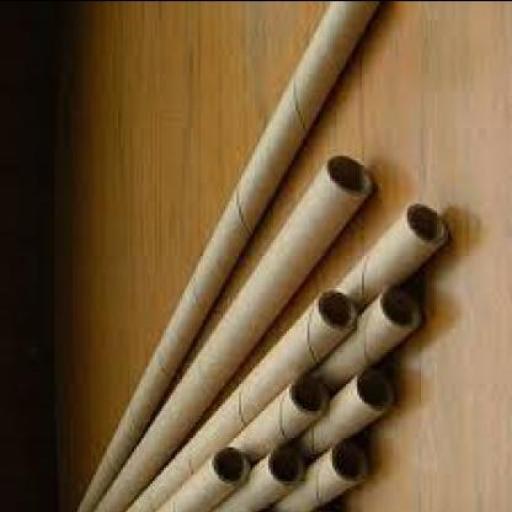cardboard: (75, 1, 377, 510), (88, 150, 371, 510), (120, 286, 354, 510), (335, 201, 448, 309), (227, 374, 328, 454), (307, 364, 393, 453), (280, 434, 371, 510), (150, 444, 250, 510), (216, 444, 307, 510)
